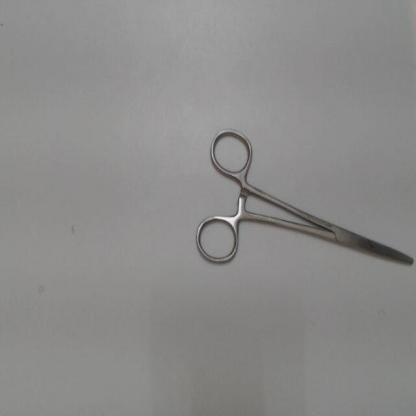Mayo Needle Holder: (192, 118, 414, 275)
